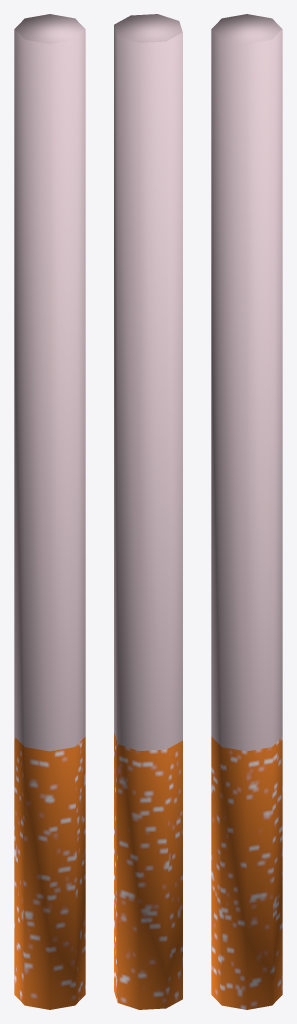
The model's file is Zigarette_Neu.fbx.
3 renders of one model, left to right at view 1: azimuth 90°, elevation 25°; view 2: azimuth 210°, elevation 25°; view 3: azimuth 270°, elevation 25°, orthographic.
Parts seen in each view (by area): view 1: Zigarette; view 2: Zigarette; view 3: Zigarette.
Boxes of the visible parts, <box> form: Zigarette: <box>14,14,85,1009</box>; Zigarette: <box>114,14,182,1009</box>; Zigarette: <box>211,14,282,1009</box>.
Bounding box in the file's own units: 0.7049 × 10.57 × 0.7049.
